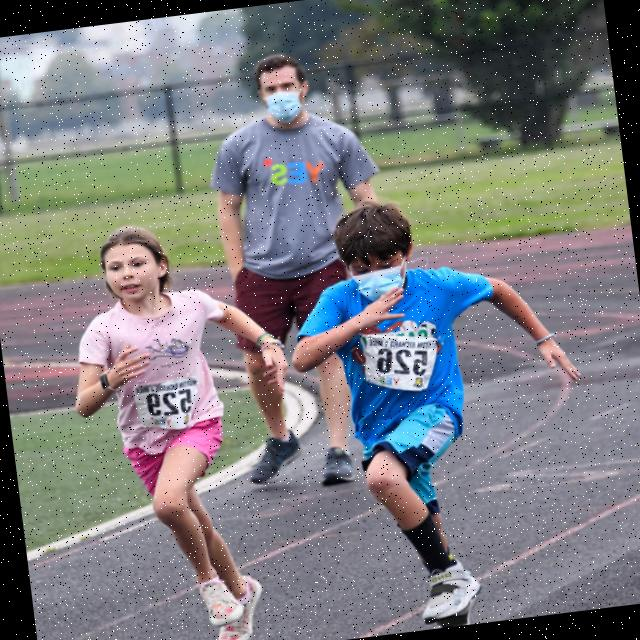Person: (274, 181, 606, 640), (53, 208, 322, 640), (195, 44, 413, 495)
